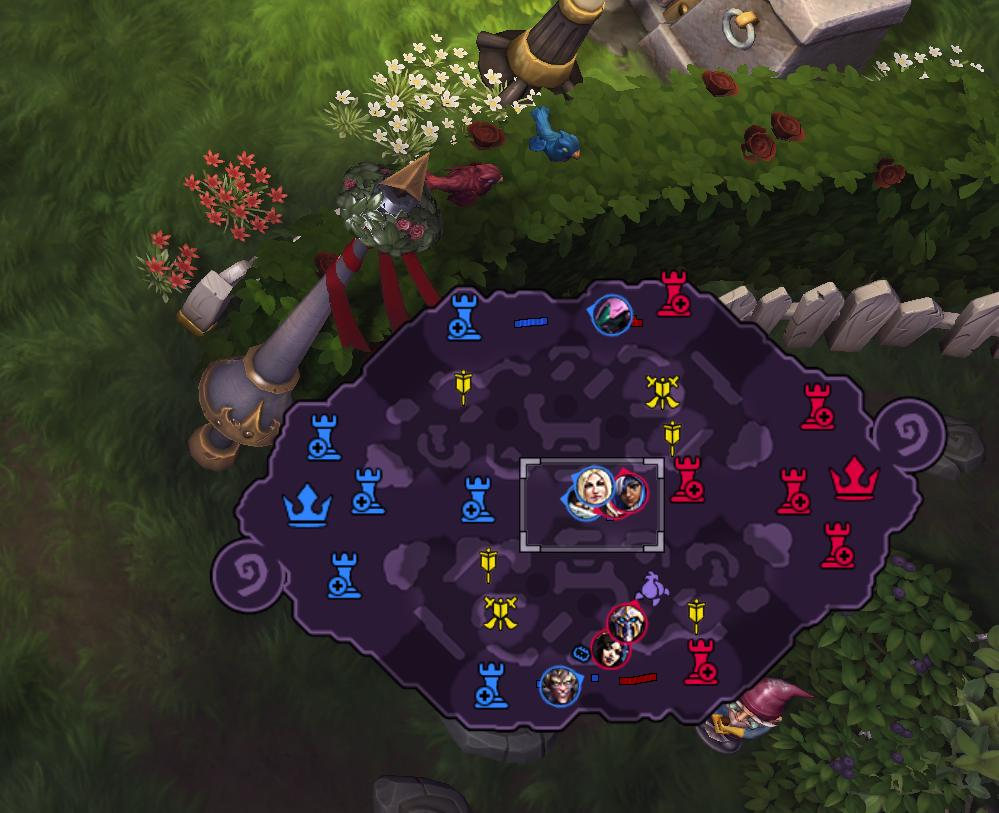blue player: (569, 464, 615, 511), (587, 293, 635, 338), (538, 665, 580, 709), (581, 471, 609, 503), (568, 492, 596, 520), (604, 500, 625, 518)
red player: (608, 467, 650, 517), (605, 600, 647, 644), (590, 629, 629, 670)
